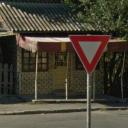preferencia: (66, 32, 114, 74)
